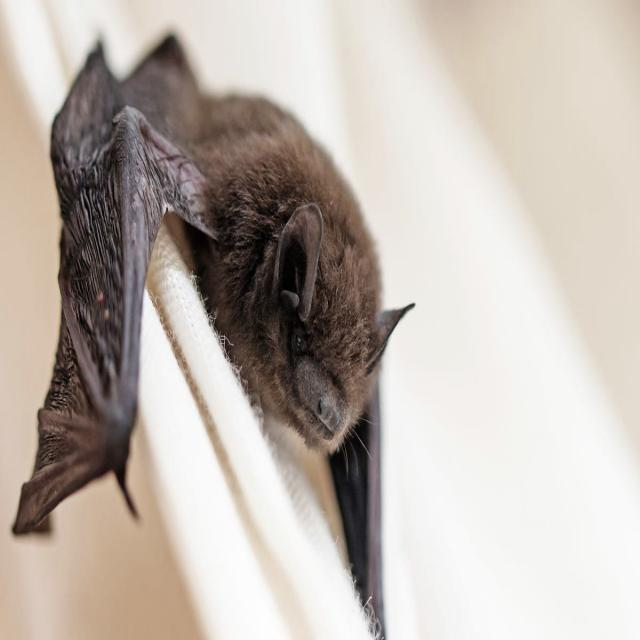bat: (13, 35, 414, 639)
